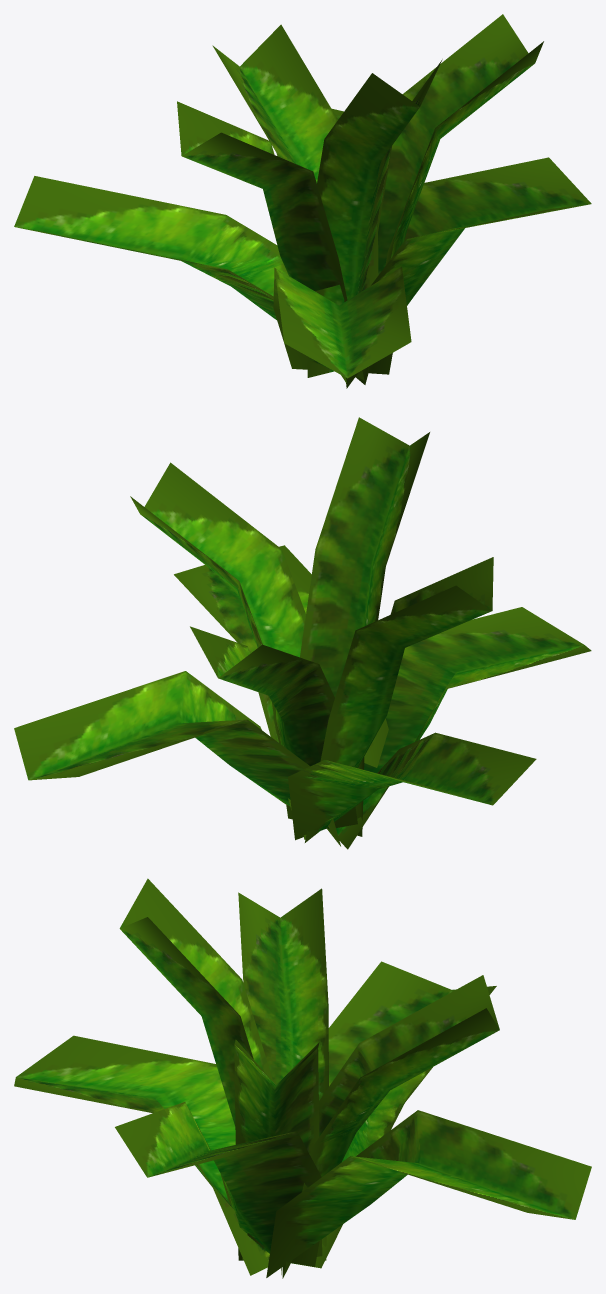
The model's file is LVL_RIV_TALLPLANT.fbx.
The picture shows the model from 3 angles, top to bottom: view 1: azimuth 30°, elevation 25°; view 2: azimuth 150°, elevation 25°; view 3: azimuth 270°, elevation 25°; orthographic projection. The views are drawn at different scales.
Parts seen in each view (by area): view 1: LVL_RIV_TALLPLANT; view 2: LVL_RIV_TALLPLANT; view 3: LVL_RIV_TALLPLANT.
Part boxes in pixels (bbox=[...]): LVL_RIV_TALLPLANT: bbox=[14, 14, 591, 388]; LVL_RIV_TALLPLANT: bbox=[14, 417, 591, 849]; LVL_RIV_TALLPLANT: bbox=[14, 878, 591, 1278].
Size of the model in its own units: 18041 by 13705 by 19660.
Materials: 1 (1 with a texture image).
